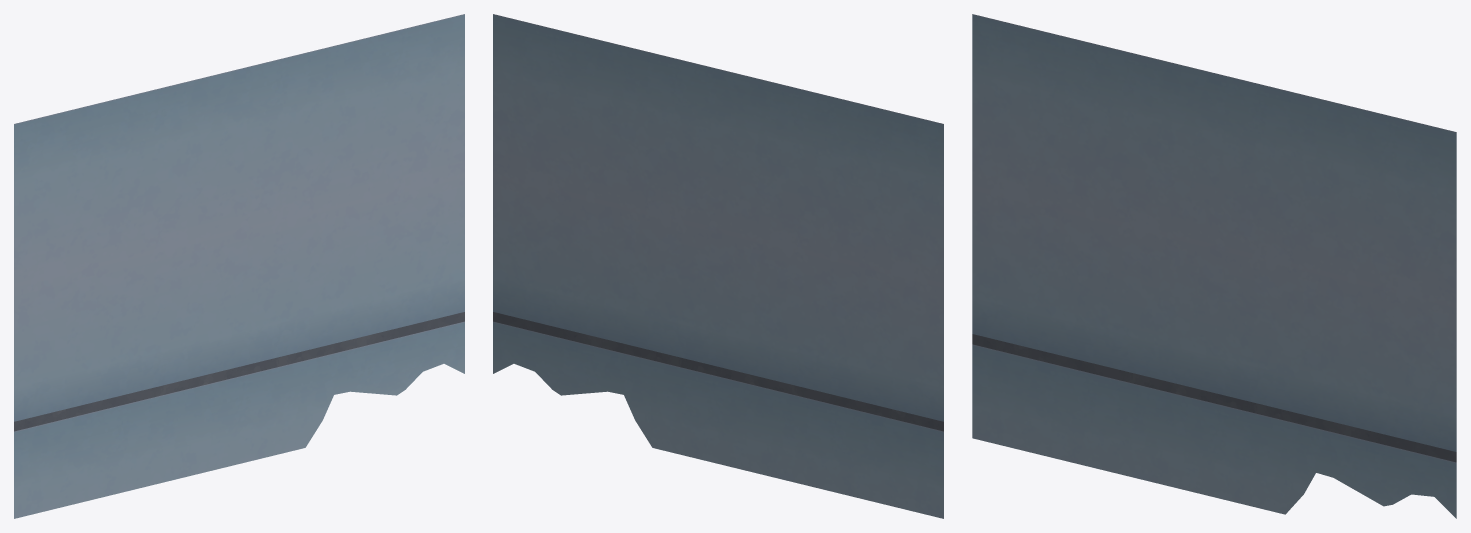
The model's file is BackWall.fbx.
The picture shows the model from 3 angles, left to right: view 1: azimuth 30°, elevation 25°; view 2: azimuth 150°, elevation 25°; view 3: azimuth 330°, elevation 25°; orthographic projection. The views are drawn at different scales.
Parts seen in each view (by area): view 1: Floor_1:pCube99; view 2: Floor_1:pCube99; view 3: Floor_1:pCube99.
Part boxes in pixels (box(x1,y1,x2,y2)): Floor_1:pCube99: box(14, 14, 464, 518); Floor_1:pCube99: box(493, 14, 943, 518); Floor_1:pCube99: box(972, 14, 1456, 518).
Bounding box in the file's own units: 460 × 385 × 4.55e-13.
Materials: 1 (1 with a texture image).
